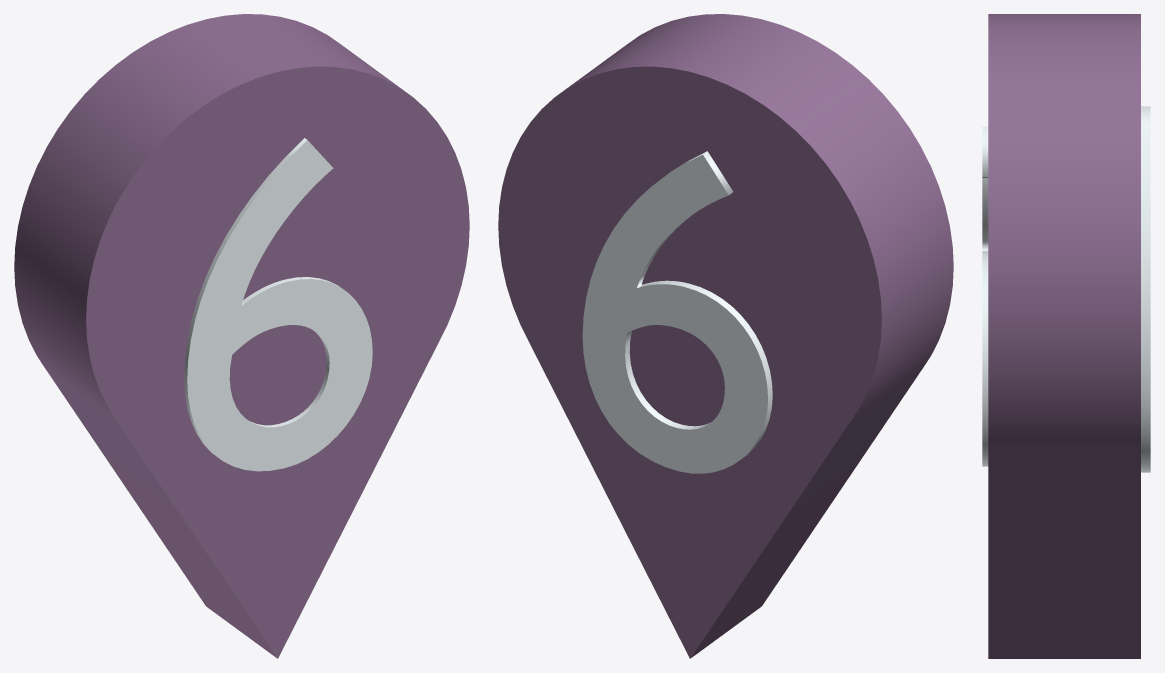
The model's file is senkou_point_a.glb.
3 renders of one model, left to right at view 1: azimuth 30°, elevation 25°; view 2: azimuth 150°, elevation 25°; view 3: azimuth 270°, elevation 25°, orthographic. The views are drawn at different scales.
Visible parts, largest first — view 1: 円.005, テキスト.010; view 2: 円.005, テキスト.009; view 3: 円.005, テキスト.009, テキスト.010.
Part boxes in pixels (x1,y1,x2,y2): 円.005: [14, 14, 469, 658]; テキスト.010: [184, 138, 372, 471]; 円.005: [498, 14, 953, 658]; テキスト.009: [582, 151, 772, 473]; 円.005: [988, 14, 1140, 658]; テキスト.009: [1141, 106, 1150, 472]; テキスト.010: [982, 126, 988, 466].
Size of the model in its own units: 2 by 2.92 by 0.7172.
3 materials, 3 textured.
